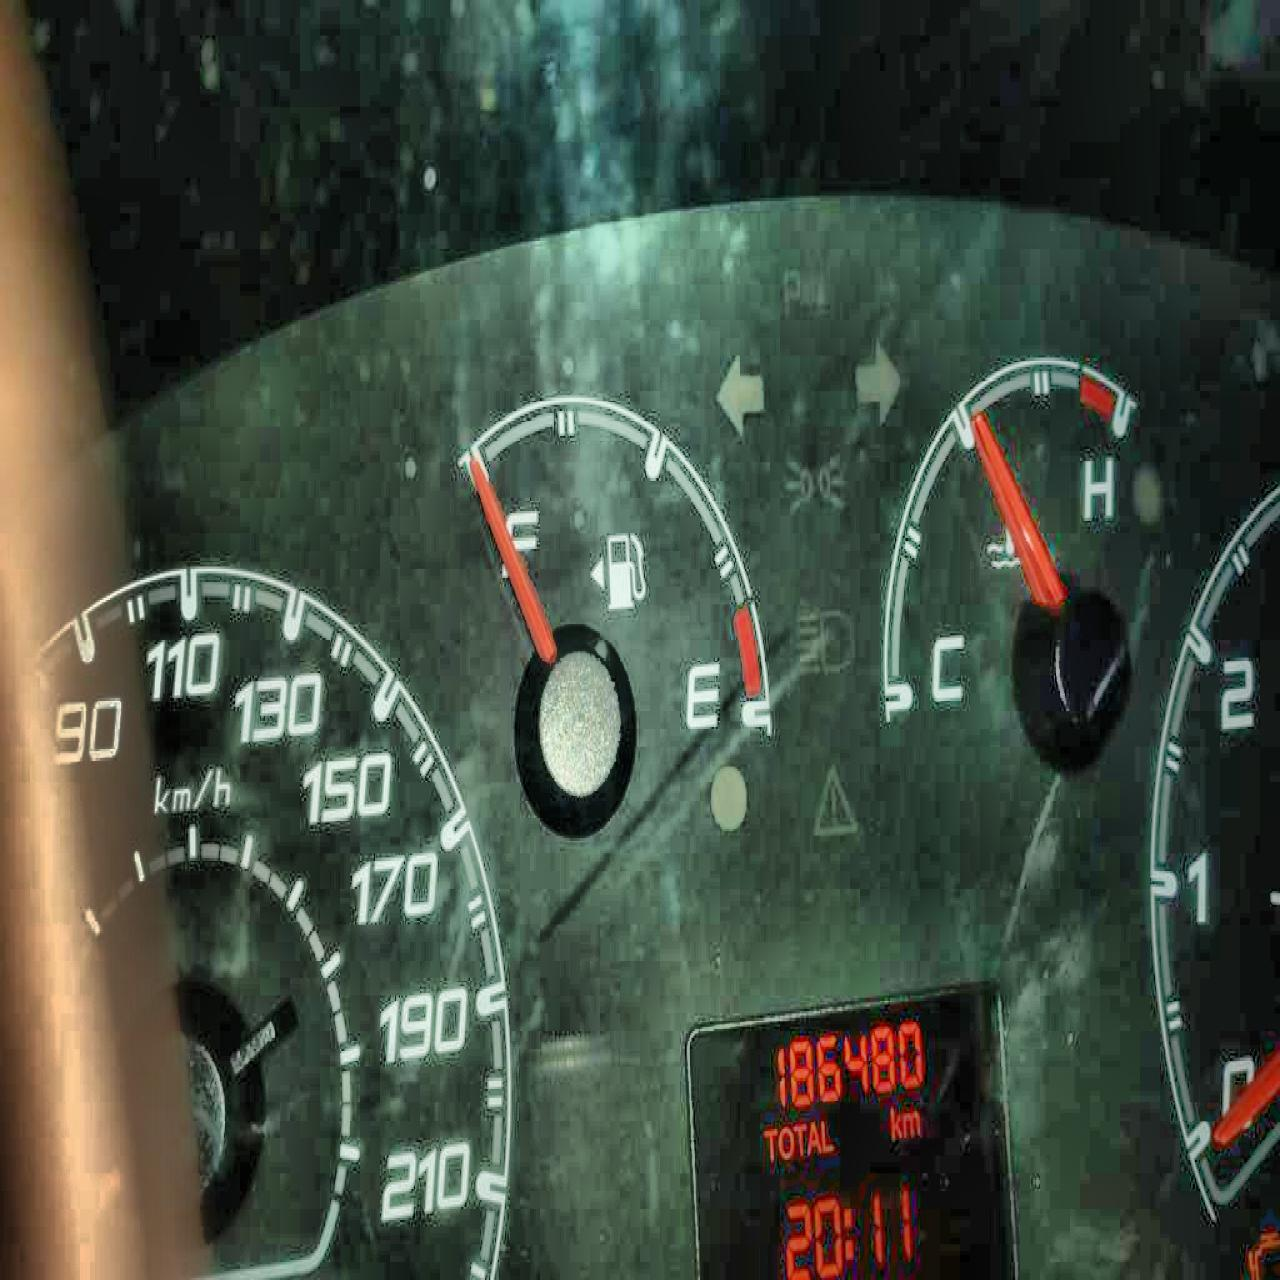0: (812, 1194, 842, 1276), (898, 1018, 922, 1086)
1: (896, 1182, 912, 1258), (869, 1187, 885, 1262), (772, 1042, 786, 1109)
2: (784, 1198, 811, 1278)
4: (842, 1031, 868, 1091)
6: (815, 1031, 841, 1102)
8: (787, 1038, 815, 1104), (869, 1025, 896, 1091)
X: (842, 1202, 854, 1262), (760, 1122, 778, 1160), (901, 1109, 921, 1138), (805, 1120, 821, 1156), (820, 1116, 835, 1154), (888, 1100, 902, 1140), (778, 1124, 794, 1158), (793, 1120, 805, 1156)
odometer: (681, 973, 1029, 1278)
